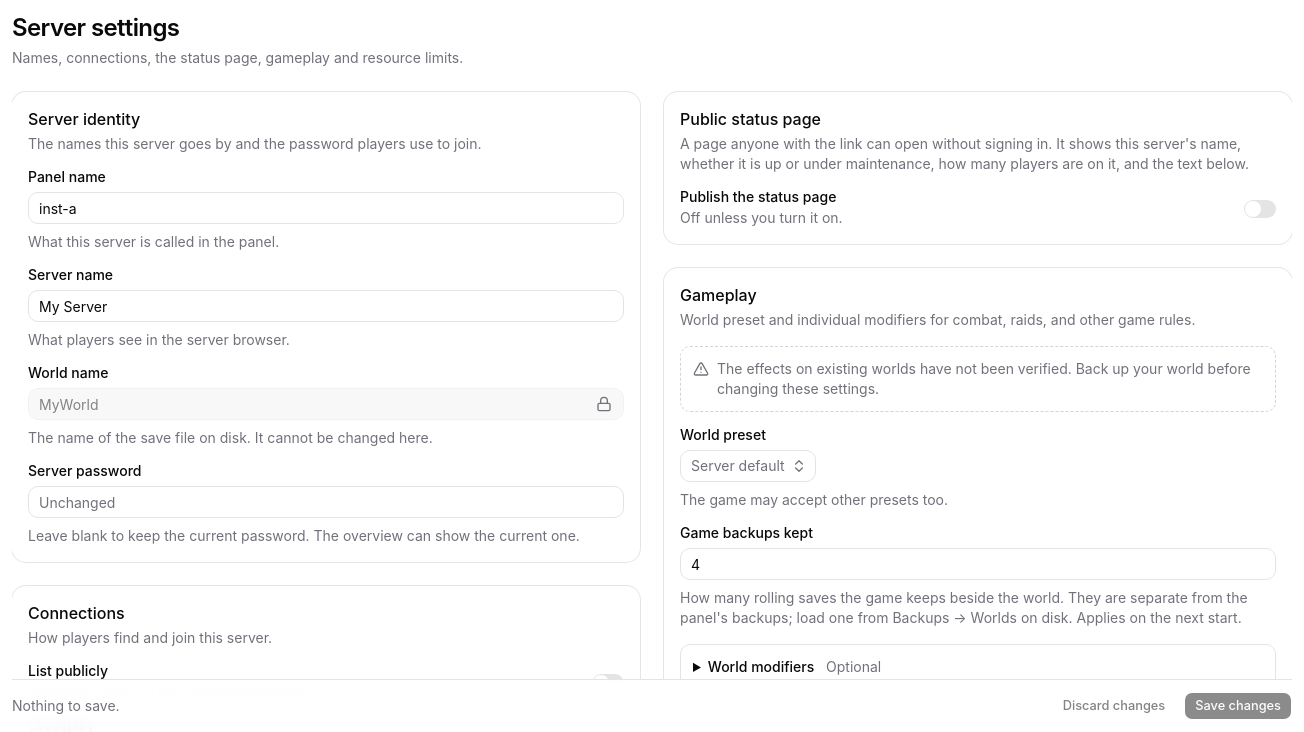
Test: the server settings screen › refuses a password the daemon would reject before sending it
In the password field labelled "Server password": coordinates (326, 502) [28,486,624,518], type "abc"
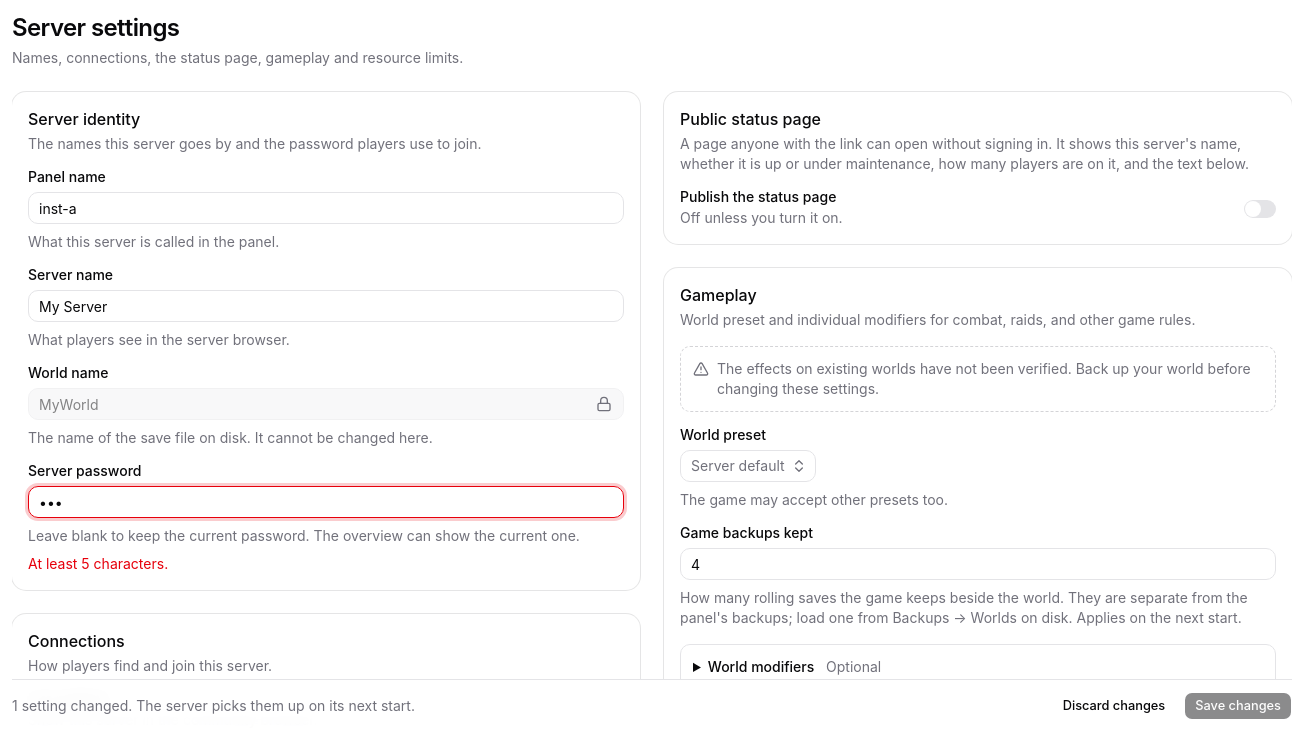
Expected: the button "Save changes" is disabled, [1184,692,1292,720]
Now the text "At least 5 characters." is shown, box [28,555,168,572]
